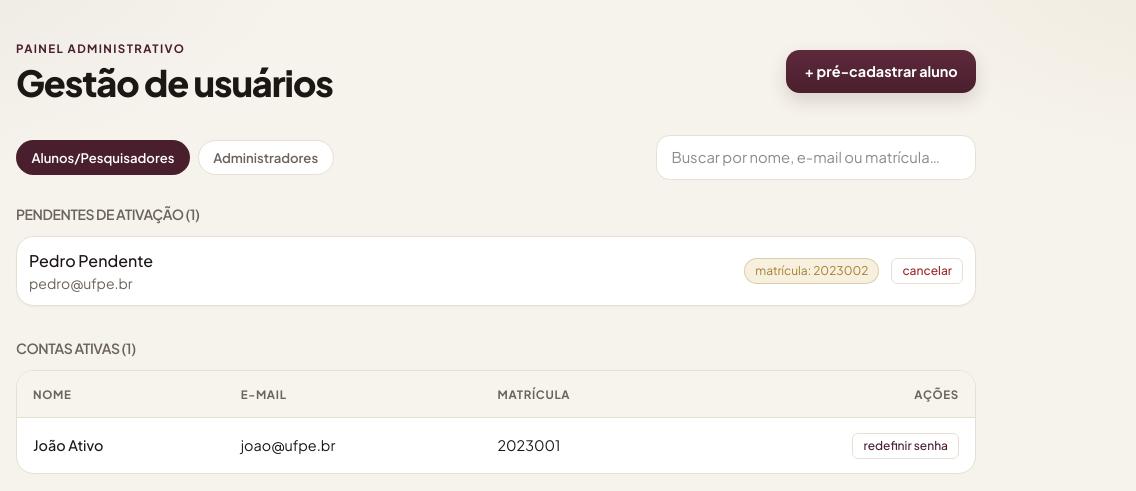
Scenario: AdminGestaoUsuarios Page › filtra usuários pelo campo de busca
Expected: the text "João Ativo" is shown, [17, 418, 225, 473]
Type "Pedro" into the field with placeholder "Buscar por nome, e-mail ou matrícula…" at (816, 158), box [656, 135, 976, 180]
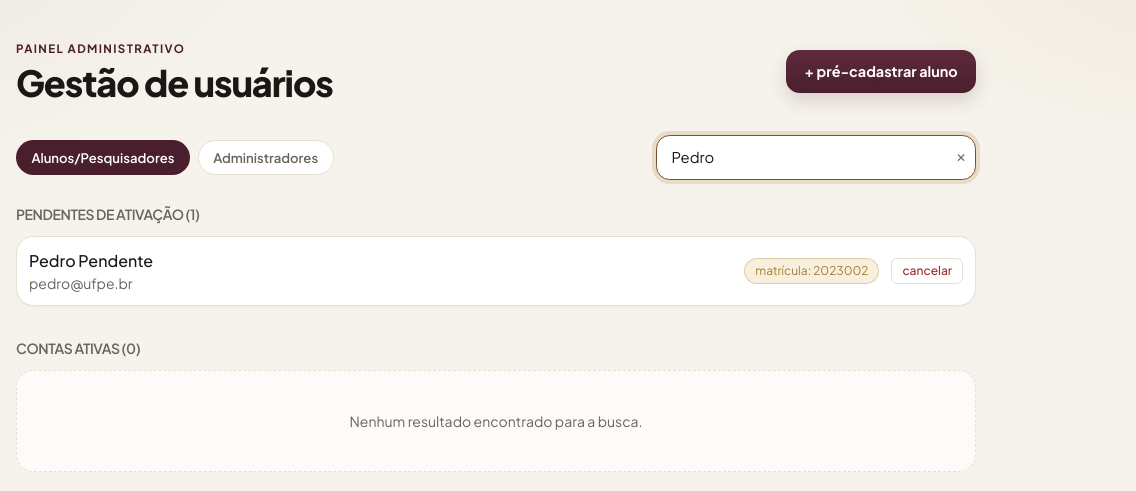
Expected: the text "Pedro Pendente" is shown, [29, 249, 153, 273]
Expected: the text "João Ativo" is gone
